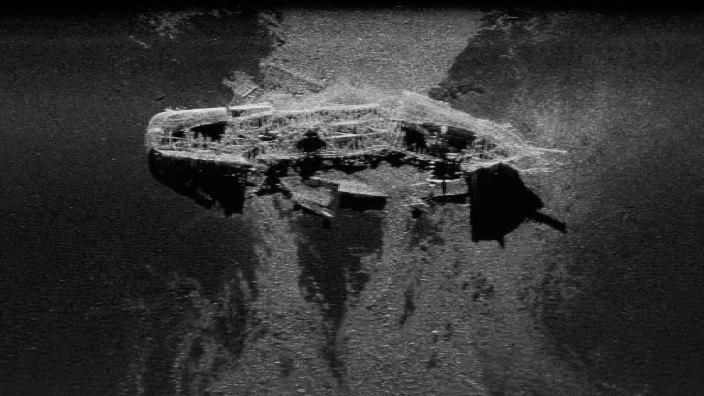ship: (147, 91, 555, 220)
